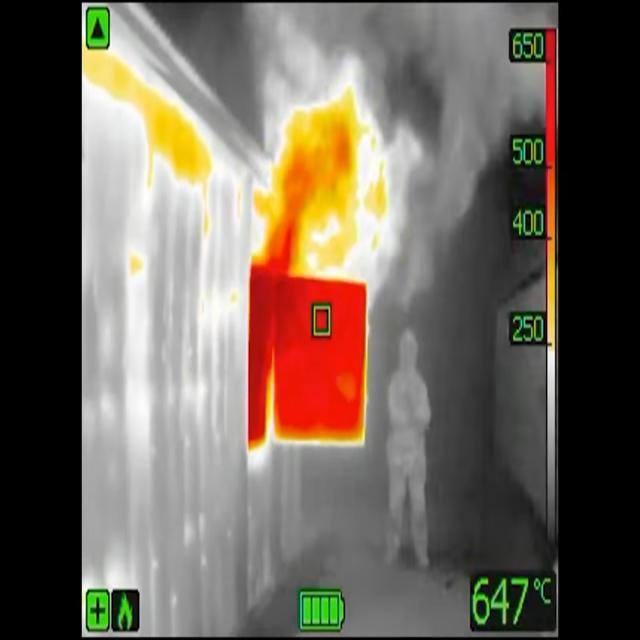fire: (251, 86, 374, 276), (82, 43, 212, 214)
